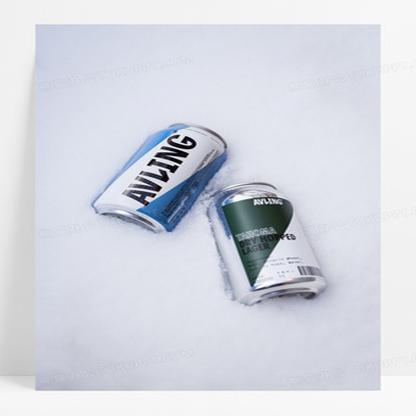can: (86, 117, 232, 240), (204, 179, 330, 304)
